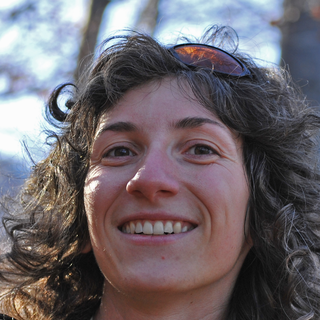eye: (176, 141, 230, 161), (98, 140, 140, 164)
